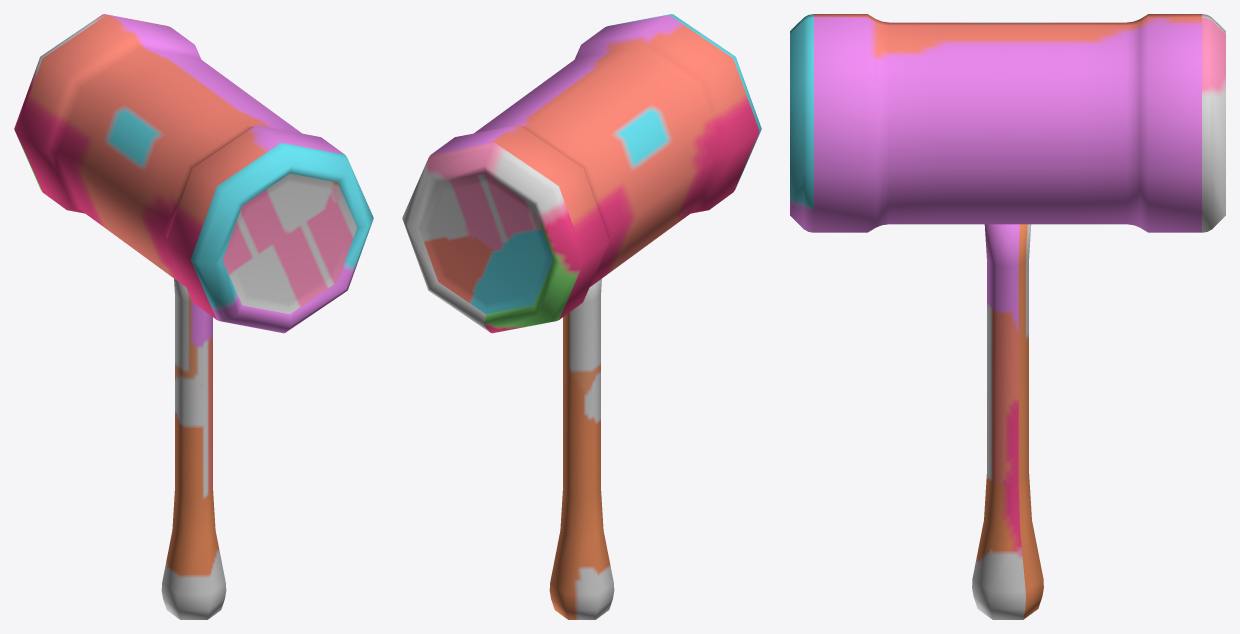
File: Martelo.fbx
3 renders of one model, left to right at view 1: azimuth 30°, elevation 25°; view 2: azimuth 150°, elevation 25°; view 3: azimuth 270°, elevation 25°, orthographic. The views are drawn at different scales.
Parts seen in each view (by area): view 1: Martelo, Cylinder; view 2: Martelo, Cylinder; view 3: Martelo, Cylinder.
Part boxes in pixels (x1,y1,x2,y2): Martelo: (14,14,373,333); Cylinder: (161,279,226,619); Martelo: (402,14,761,333); Cylinder: (549,279,614,619); Martelo: (790,14,1225,232); Cylinder: (972,224,1043,619).
Size of the model in its own units: 52.45 by 147 by 98.18.
Materials: 1 (1 with a texture image).
